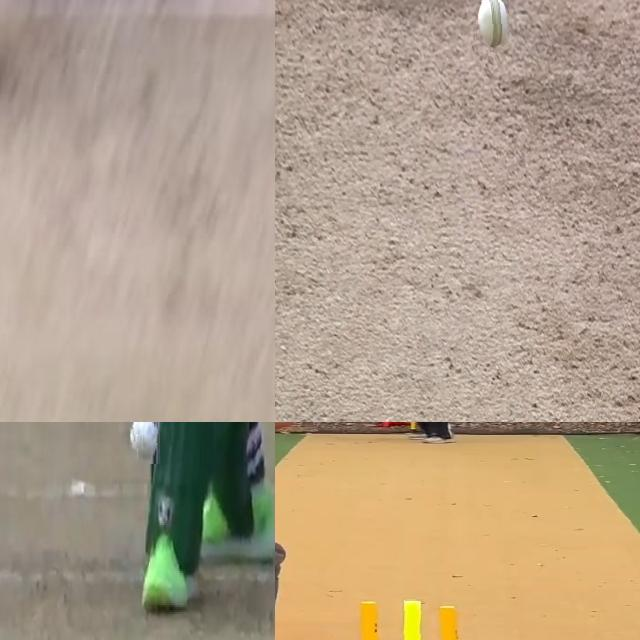Cricket ball: (473, 0, 508, 50), (127, 422, 160, 464)
Stumps: (337, 599, 476, 640)
